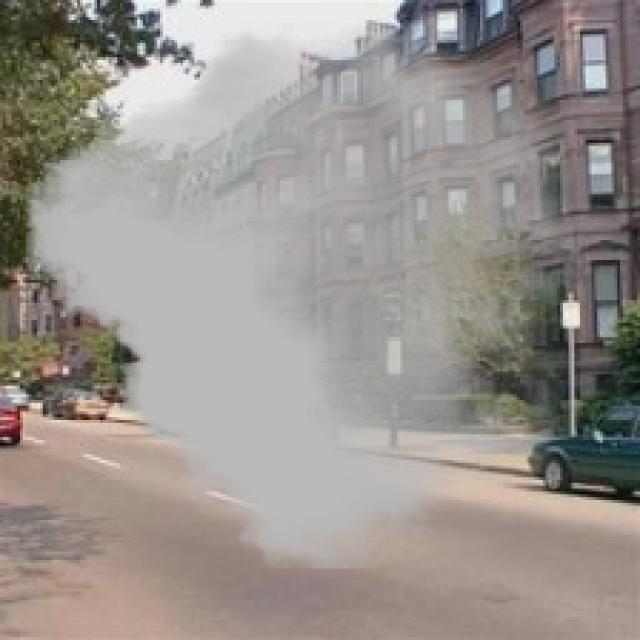smoke: (26, 23, 574, 568)
